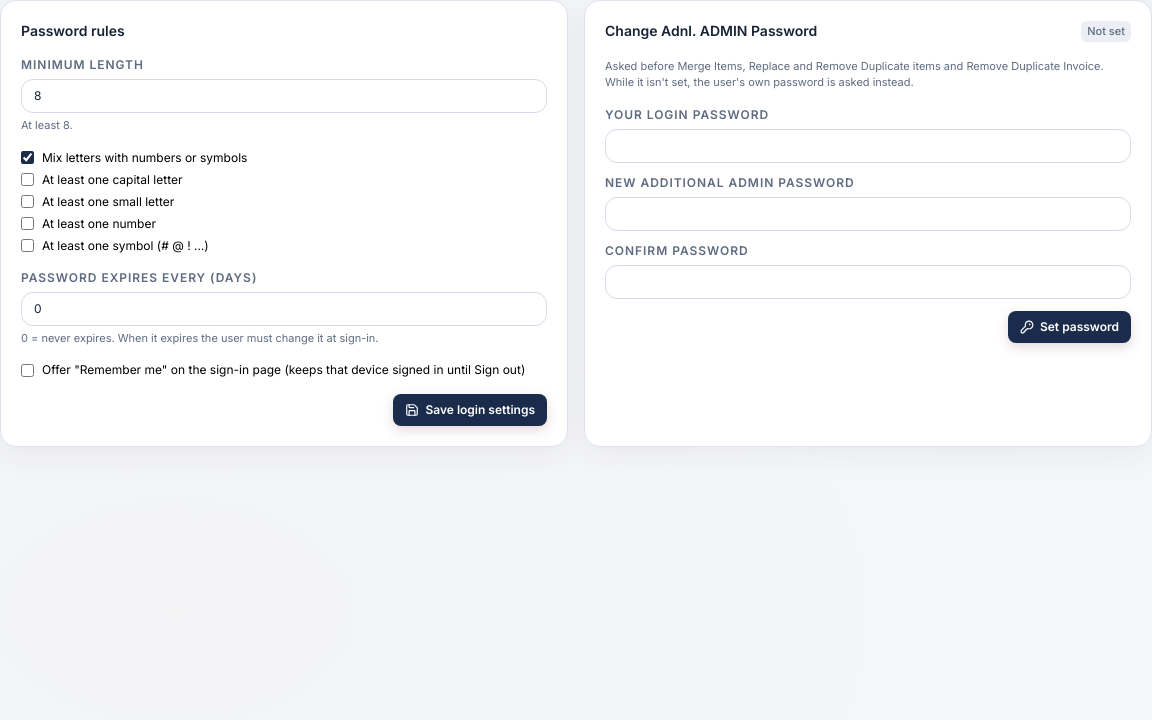
Test case: LoginSettingsTab › checks the new password inline and sends nothing
Click the button "Set password" at point(1070, 326), box [1008,310,1131,342]
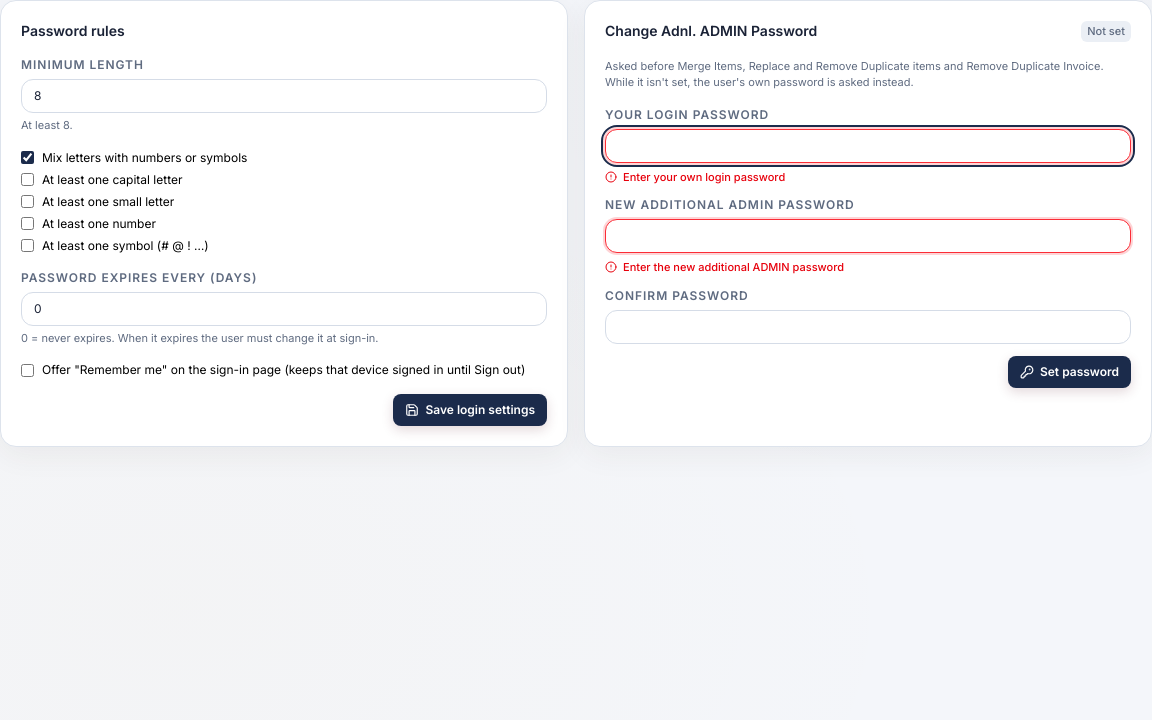
Expected: the text "Enter your own login password" is shown, [623,168,785,185]
